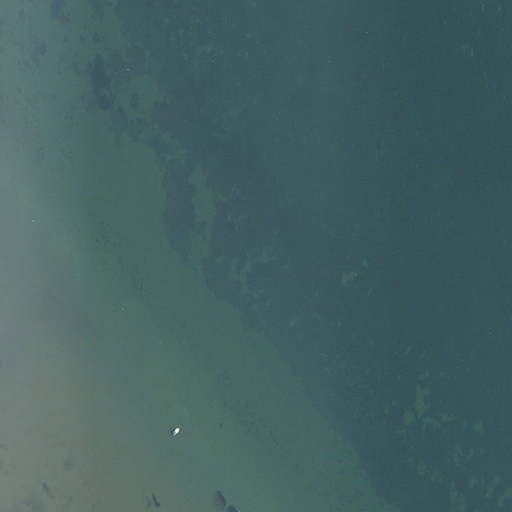ship: (171, 425, 181, 437)
